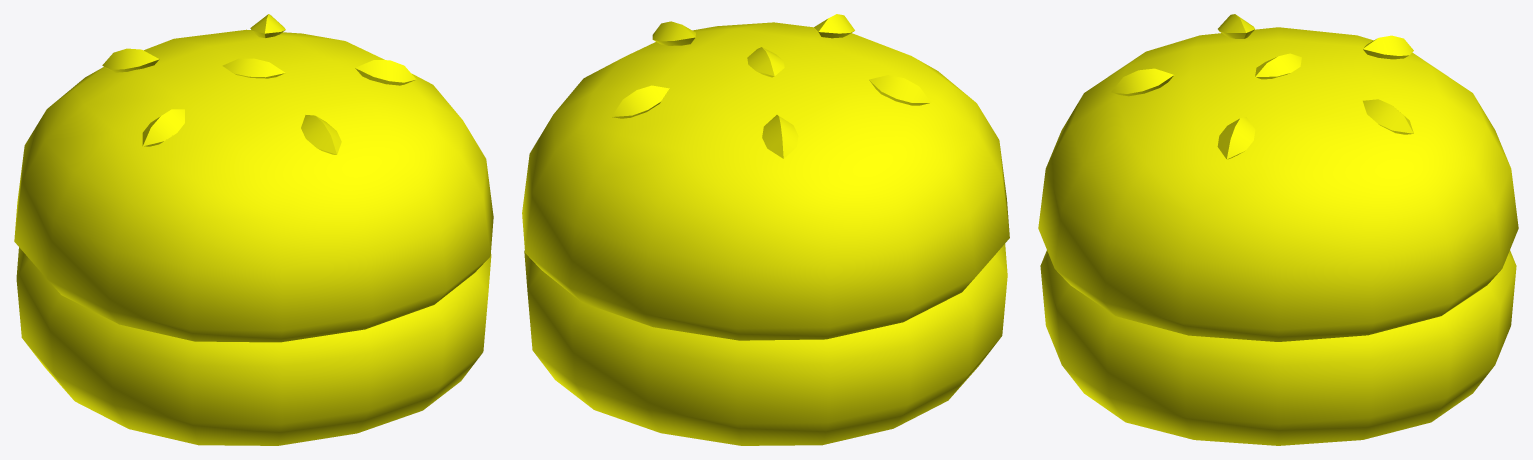
The model's file is kaykit-food-ingredient-bun.glb.
The picture shows the model from 3 angles, left to right: view 1: azimuth 30°, elevation 25°; view 2: azimuth 150°, elevation 25°; view 3: azimuth 270°, elevation 25°; orthographic projection.
Visible parts, largest first — view 1: food_ingredient_bun; view 2: food_ingredient_bun; view 3: food_ingredient_bun.
Part boxes in pixels (x1,y1,x2,y2): food_ingredient_bun: (14,14,493,445); food_ingredient_bun: (522,14,1009,445); food_ingredient_bun: (1038,14,1518,445).
Size of the model in its own units: 0.7 by 0.5072 by 0.7.
